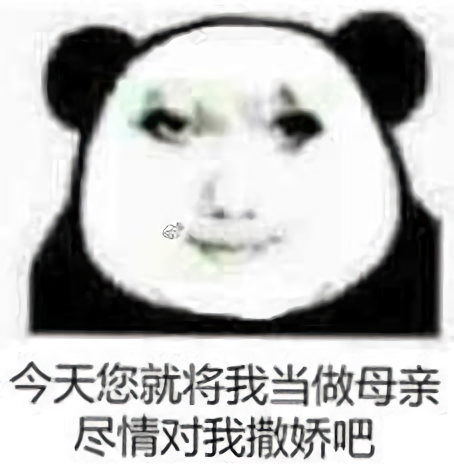dragon: (130, 85, 342, 265)
